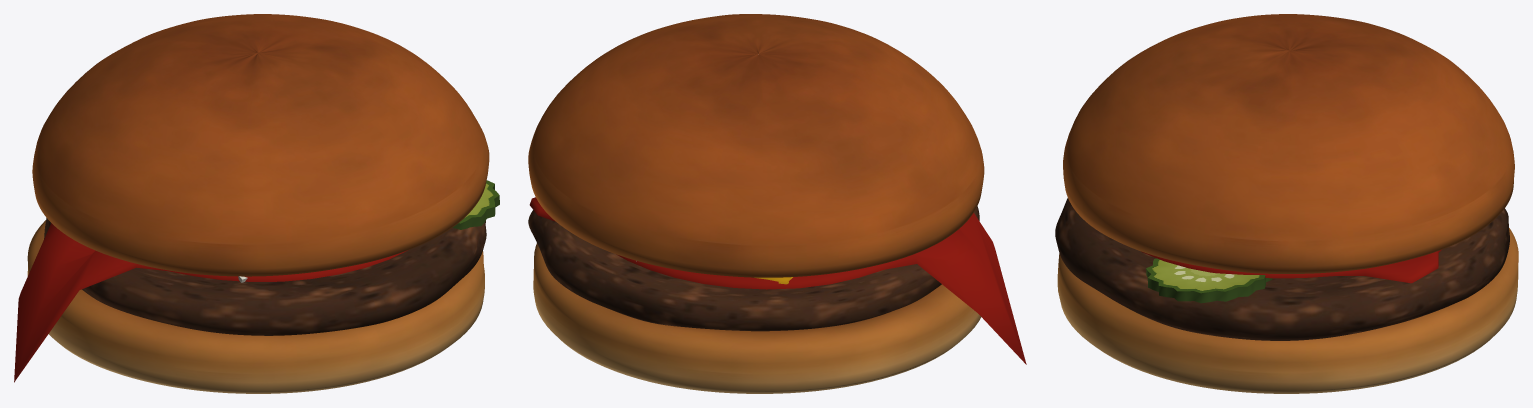
File: hamburger.glb
3 renders of one model, left to right at view 1: azimuth 30°, elevation 25°; view 2: azimuth 150°, elevation 25°; view 3: azimuth 270°, elevation 25°, orthographic.
Visible parts, largest first — view 1: hamburger; view 2: hamburger; view 3: hamburger.
Part boxes in pixels (x1,y1,x2,y2): hamburger: (14,14,499,393); hamburger: (528,14,1026,393); hamburger: (1055,14,1518,393).
Size of the model in its own units: 0.1184 by 0.0639 by 0.1026.
Materials: 8 (4 with a texture image).
